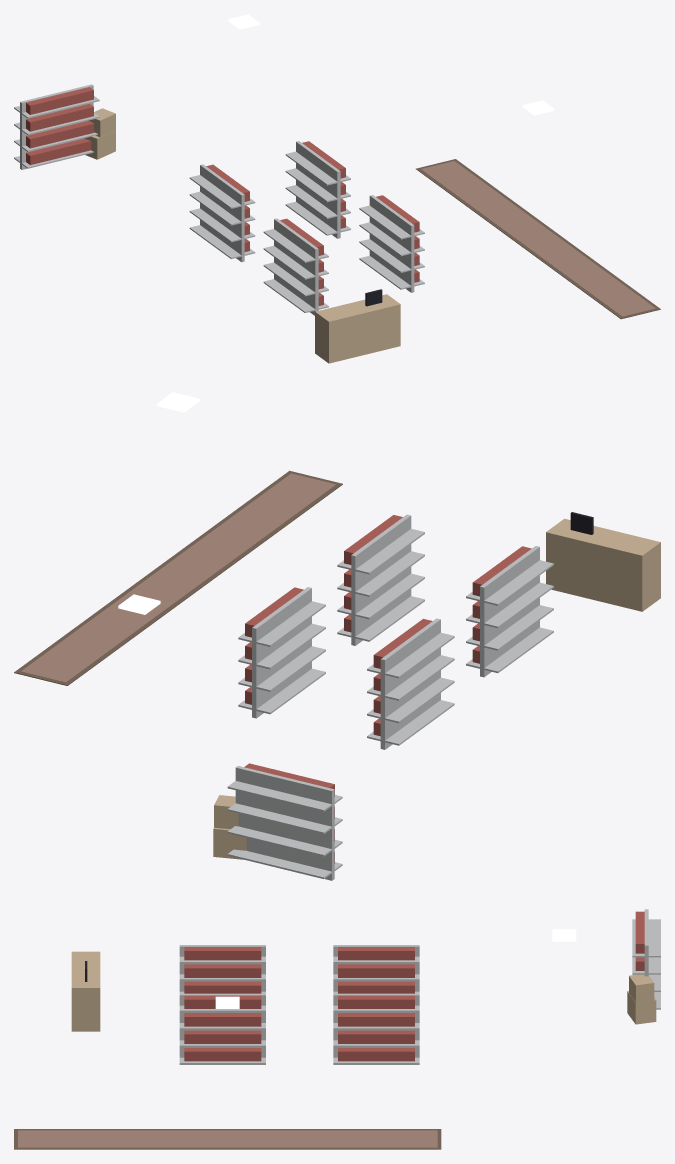
The model's file is fine-s0.glb.
The picture shows the model from 3 angles, top to bottom: view 1: azimuth 30°, elevation 25°; view 2: azimuth 150°, elevation 25°; view 3: azimuth 270°, elevation 25°; orthographic projection. The views are drawn at different scales.
Visible parts, largest first — view 1: soft-s0, shelving.000, shop-counter.000, shelf.003, shelf.000, shelf.002, shelf.001, cardboard-box.000; view 2: soft-s0, shelving.000, shop-counter.000, shelf.000, shelf.001, shelf.003, shelf.002, cardboard-box.000; view 3: soft-s0, shelf.002, shelf.003, shelf.000, shelf.001, shop-counter.000, shelving.000, cardboard-box.000.
Part boxes in pixels (x1=…): soft-s0: x1=416, y1=159, x2=660, y2=319; shelving.000: x1=14, y1=84, x2=99, y2=169; shop-counter.000: x1=315, y1=289, x2=400, y2=363; shelf.003: x1=359, y1=195, x2=424, y2=292; shelf.000: x1=189, y1=164, x2=255, y2=262; shelf.002: x1=285, y1=141, x2=350, y2=238; shelf.001: x1=263, y1=218, x2=328, y2=315; cardboard-box.000: x1=84, y1=108, x2=115, y2=159; soft-s0: x1=14, y1=470, x2=342, y2=685; shelving.000: x1=227, y1=763, x2=342, y2=880; shop-counter.000: x1=546, y1=512, x2=660, y2=611; shelf.000: x1=367, y1=618, x2=454, y2=749; shelf.001: x1=466, y1=546, x2=553, y2=677; shelf.003: x1=337, y1=514, x2=424, y2=645; shelf.002: x1=238, y1=587, x2=325, y2=718; cardboard-box.000: x1=213, y1=795, x2=246, y2=859; soft-s0: x1=14, y1=1129, x2=441, y2=1149; shelf.002: x1=333, y1=993, x2=419, y2=1064; shelf.003: x1=179, y1=993, x2=265, y2=1064; shelf.000: x1=333, y1=945, x2=419, y2=993; shelf.001: x1=179, y1=945, x2=265, y2=993; shop-counter.000: x1=71, y1=951, x2=100, y2=1031; shelving.000: x1=632, y1=909, x2=660, y2=1009; cardboard-box.000: x1=627, y1=974, x2=656, y2=1024.
Bounding box in the file's own units: 8.42 × 3.17 × 13.47.
